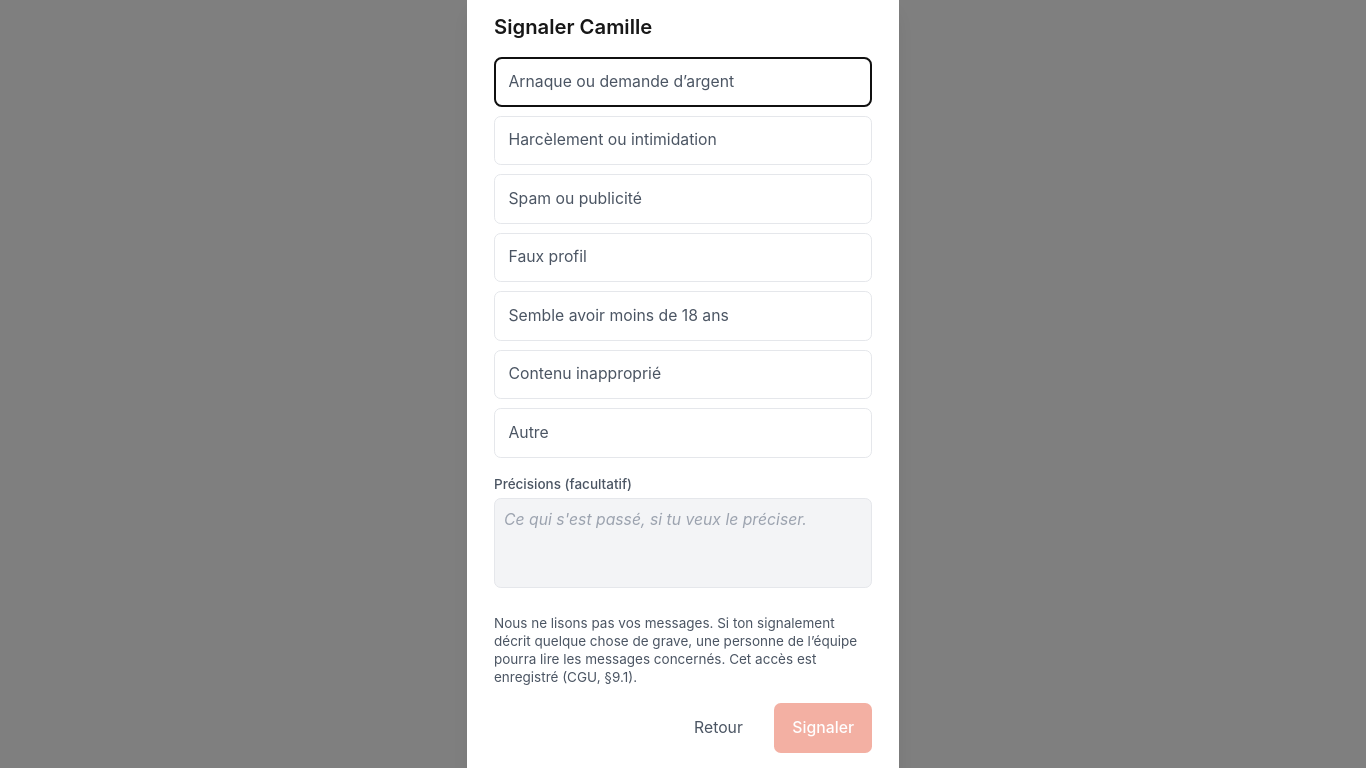
it: <ReportUserModal /> — arnaques (#369) › après un signalement pour arnaque : une ligne de prudence, et seulement dans ce cas
Step 1. Click the button "Arnaque ou demande d’argent" → {"x": 683, "y": 82}, box [494, 58, 872, 107]
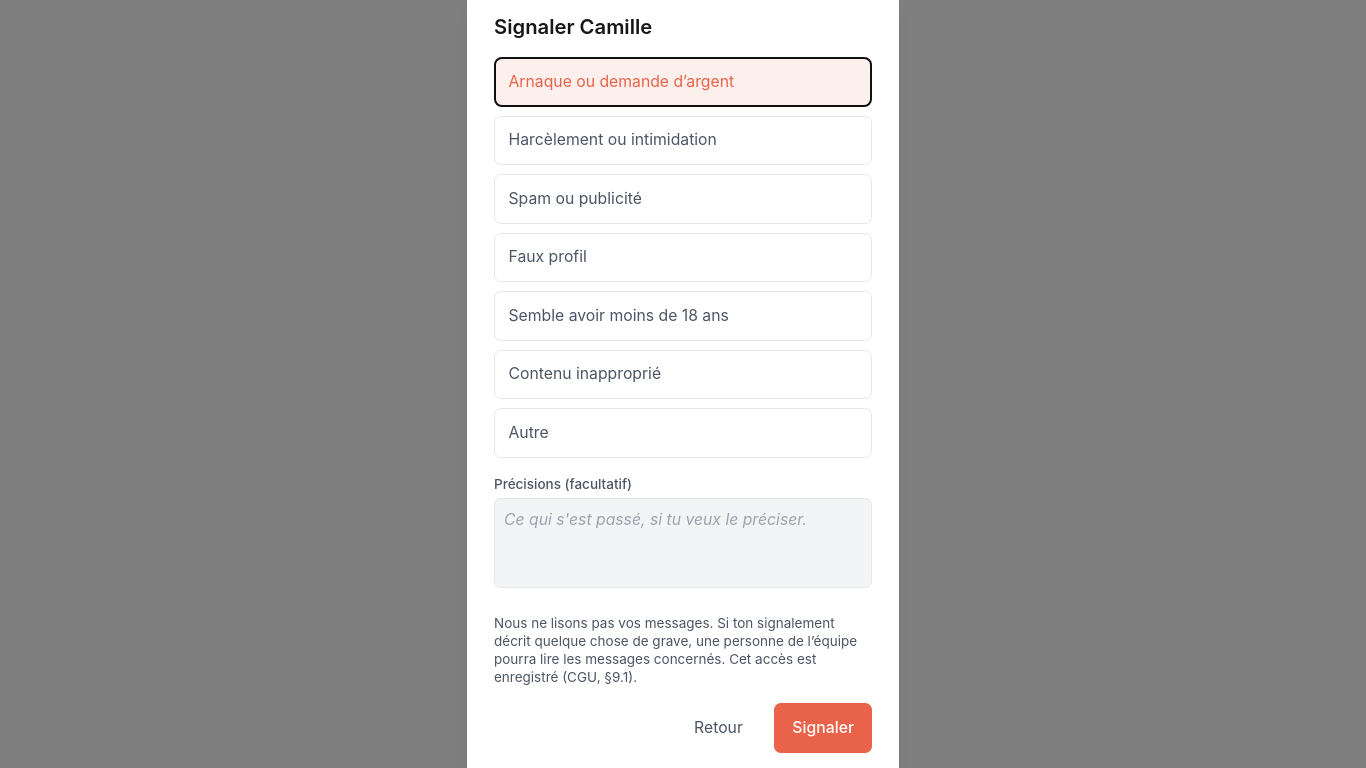
Step 2. Click the button "Signaler" → {"x": 823, "y": 728}, box [774, 703, 872, 753]
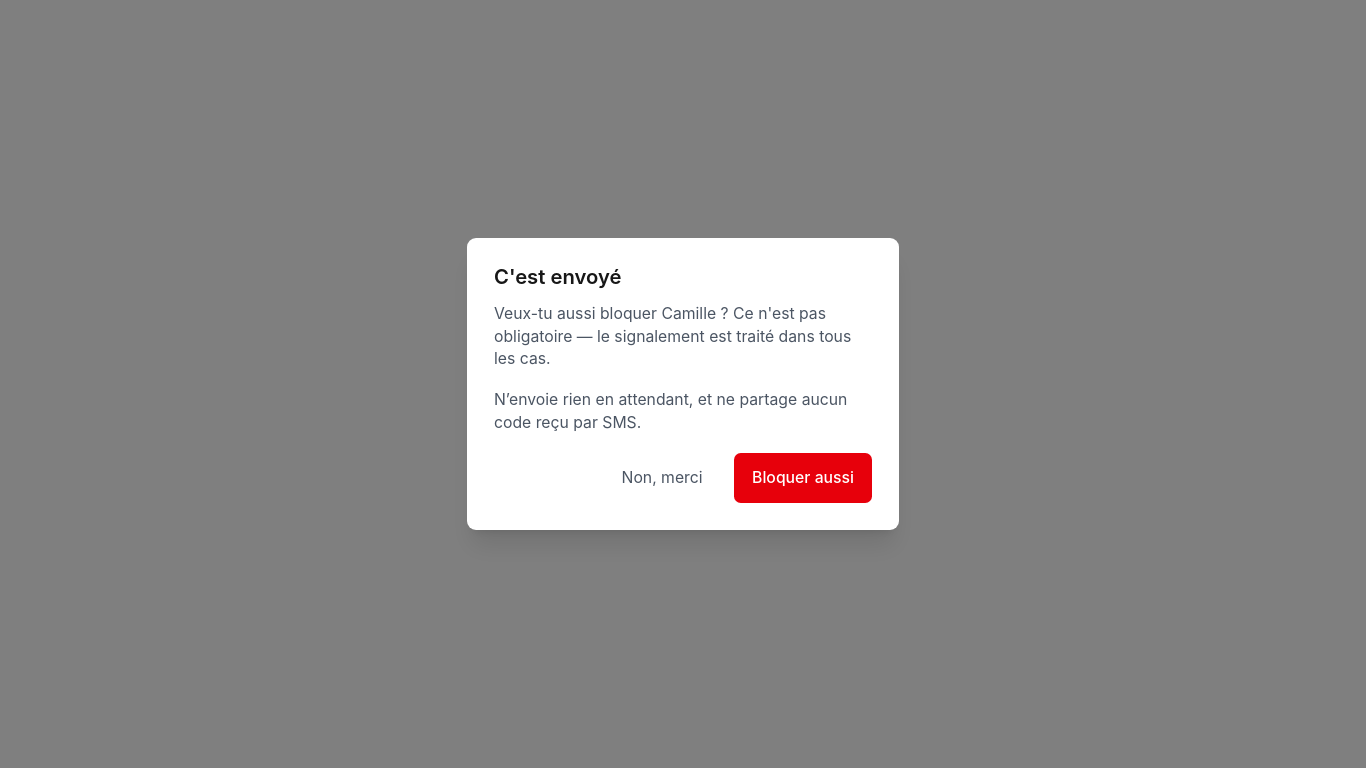
Expected: the text "N’envoie rien en attendant" is shown, [494, 390, 847, 432]
